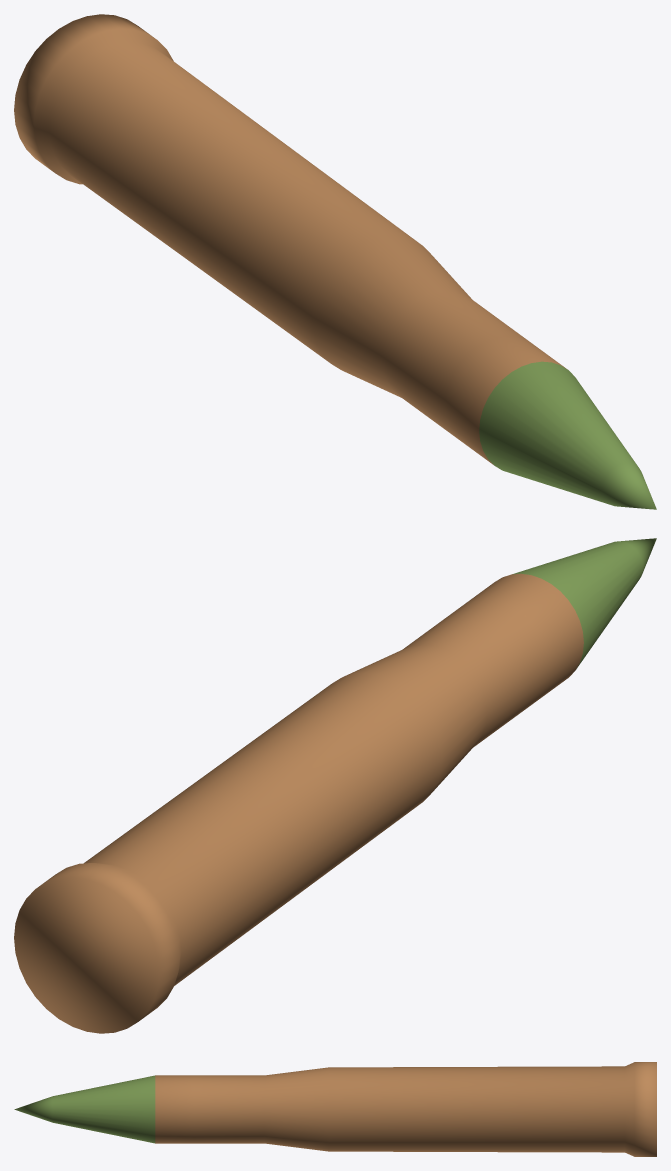
The model's file is cannon_30_round_display.glb.
3 renders of one model, top to bottom at view 1: azimuth 30°, elevation 25°; view 2: azimuth 150°, elevation 25°; view 3: azimuth 270°, elevation 25°, orthographic. The views are drawn at different scales.
Parts seen in each view (by area): view 1: AMMO_MESH.027; view 2: AMMO_MESH.027; view 3: AMMO_MESH.027.
Boxes of the visible parts, box(x1,y1,x2,y2) form: AMMO_MESH.027: box(14, 14, 656, 509); AMMO_MESH.027: box(14, 538, 656, 1033); AMMO_MESH.027: box(14, 1062, 656, 1156).
Bounding box in the file's own units: 0.042 × 0.042 × 0.285.
